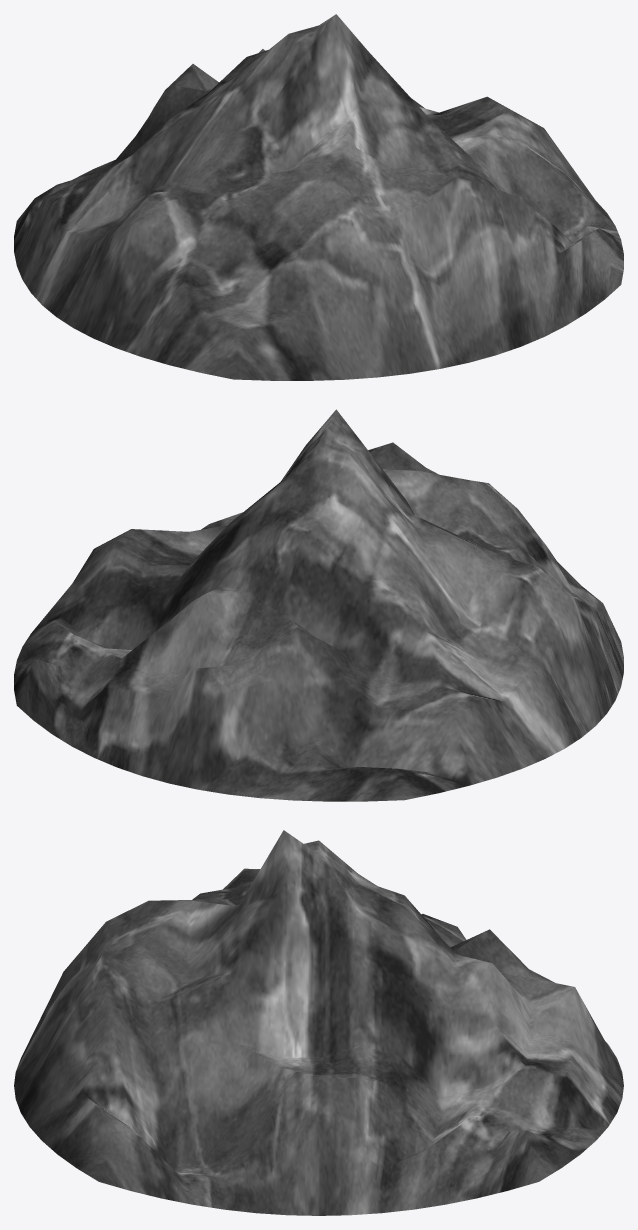
File: Mount04.FBX
The picture shows the model from 3 angles, top to bottom: view 1: azimuth 30°, elevation 25°; view 2: azimuth 150°, elevation 25°; view 3: azimuth 270°, elevation 25°; orthographic projection.
Visible parts, largest first — view 1: Mount04; view 2: Mount04; view 3: Mount04.
Boxes of the visible parts, x1,y1,x2,y2 form: Mount04: [14, 14, 623, 380]; Mount04: [14, 409, 623, 801]; Mount04: [14, 830, 623, 1215].
Size of the model in its own units: 191 by 87.46 by 189.
